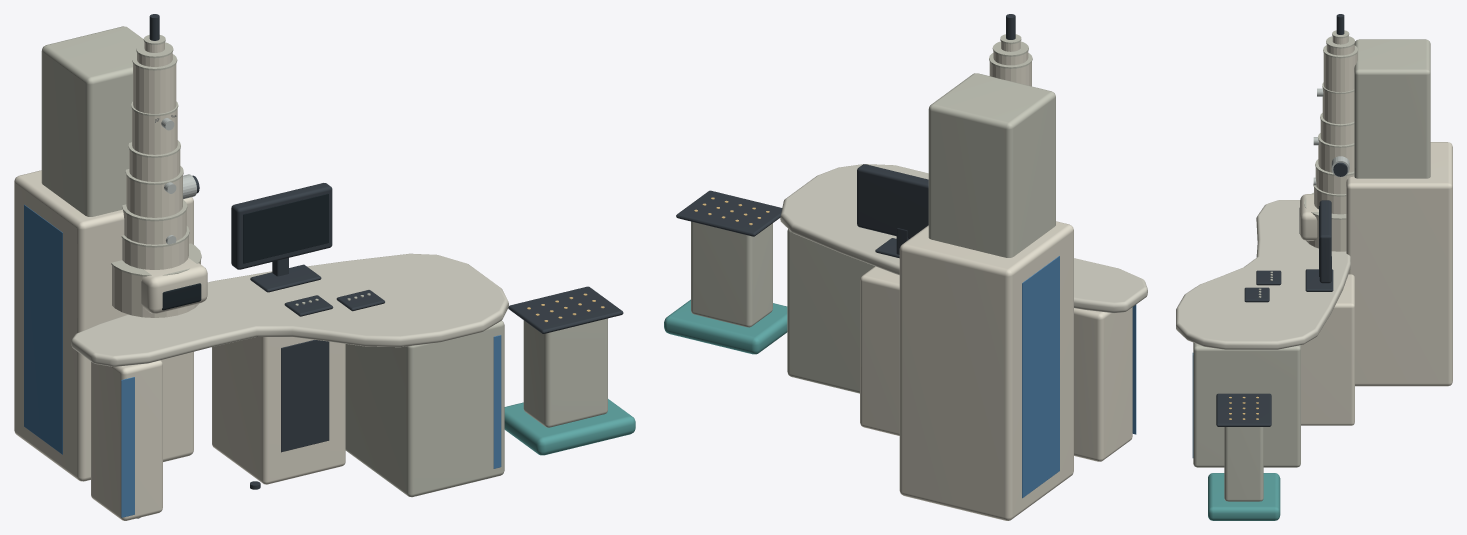
File: jem1400plus.glb
3 renders of one model, left to right at view 1: azimuth 30°, elevation 25°; view 2: azimuth 150°, elevation 25°; view 3: azimuth 270°, elevation 25°, orthographic. The views are drawn at different scales.
Visible parts, largest first — view 1: JEM_curved_desk, JEM_right_skirt, JEM_rear_column_cabinet, JEM_column_rear_upright, JEM_center_lower_console, JEM_front_left_support, JEM_rear_blue_side_strip, Offline_display_stand, JEM_center_console_blank, JEM_blank_monitor_screen, Offline_display_base, Offline_lattice_panel (+13 smaller); view 2: JEM_rear_column_cabinet, JEM_column_rear_upright, JEM_right_skirt, JEM_curved_desk, JEM_front_left_support, JEM_rear_blue_side_strip, Offline_display_stand, JEM_center_lower_console, JEM_blank_monitor_frame, Offline_display_base, Offline_lattice_panel, JEM_static_column_section_6 (+1 smaller); view 3: JEM_rear_column_cabinet, JEM_curved_desk, JEM_column_rear_upright, JEM_right_skirt, JEM_center_lower_console, Offline_display_stand, Offline_display_base, Offline_lattice_panel, JEM_static_column_section_6, JEM_blank_monitor_frame, JEM_static_column_section_5, JEM_lower_viewing_housing (+8 smaller).
Part boxes in pixels (box(x1,y1,x2,y2)): JEM_curved_desk: box(71, 253, 508, 366); JEM_right_skirt: box(345, 320, 504, 497); JEM_rear_column_cabinet: box(14, 170, 193, 481); JEM_column_rear_upright: box(41, 26, 143, 216); JEM_center_lower_console: box(212, 337, 345, 484); JEM_front_left_support: box(91, 360, 162, 520); JEM_rear_blue_side_strip: box(24, 204, 62, 454); Offline_display_stand: box(523, 318, 607, 427); JEM_center_console_blank: box(281, 340, 329, 452); JEM_blank_monitor_screen: box(243, 193, 328, 263); Offline_display_base: box(504, 399, 635, 455); Offline_lattice_panel: box(508, 286, 623, 333); JEM_rear_column_cabinet: box(899, 221, 1073, 520); JEM_column_rear_upright: box(928, 73, 1055, 257); JEM_right_skirt: box(787, 229, 874, 393); JEM_curved_desk: box(780, 164, 1147, 313); JEM_front_left_support: box(1074, 307, 1132, 461); JEM_rear_blue_side_strip: box(1022, 256, 1059, 498); Offline_display_stand: box(691, 221, 772, 327); JEM_center_lower_console: box(860, 266, 899, 435); JEM_blank_monitor_frame: box(857, 164, 928, 239); Offline_display_base: box(664, 299, 787, 354); Offline_lattice_panel: box(676, 190, 782, 236); JEM_static_column_section_6: box(989, 62, 1031, 86); JEM_rear_column_cabinet: box(1346, 142, 1452, 386); JEM_curved_desk: box(1176, 200, 1350, 349); JEM_column_rear_upright: box(1354, 39, 1430, 178); JEM_right_skirt: box(1193, 342, 1300, 467); JEM_center_lower_console: box(1301, 274, 1354, 425); Offline_display_stand: box(1224, 427, 1263, 501); Offline_display_base: box(1208, 473, 1280, 520); Offline_lattice_panel: box(1216, 393, 1271, 426); JEM_static_column_section_6: box(1323, 53, 1357, 92); JEM_blank_monitor_frame: box(1319, 200, 1331, 283); JEM_static_column_section_5: box(1322, 88, 1354, 124); JEM_lower_viewing_housing: box(1300, 194, 1318, 240).
Size of the model in its own units: 2.87 by 2.49 by 1.76.
